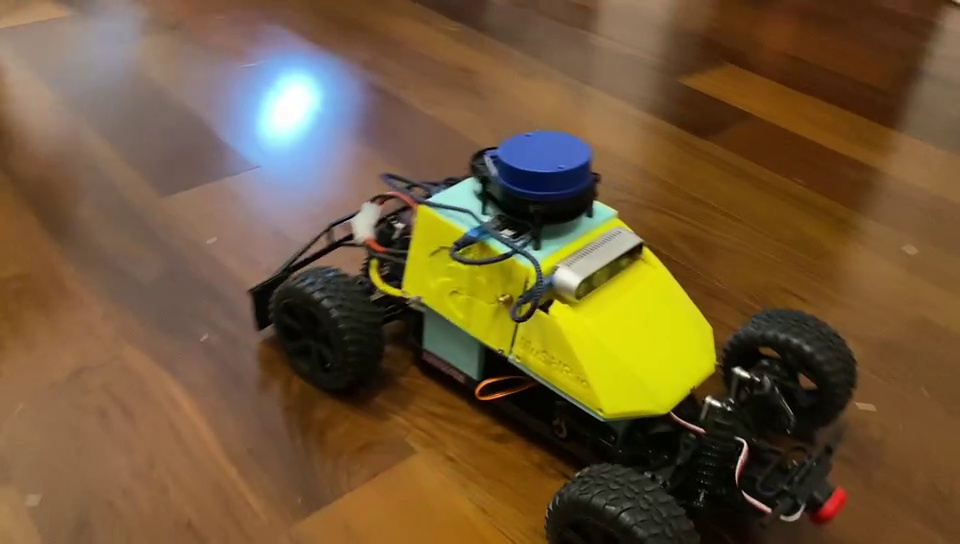mushr_car: (242, 122, 860, 544)
